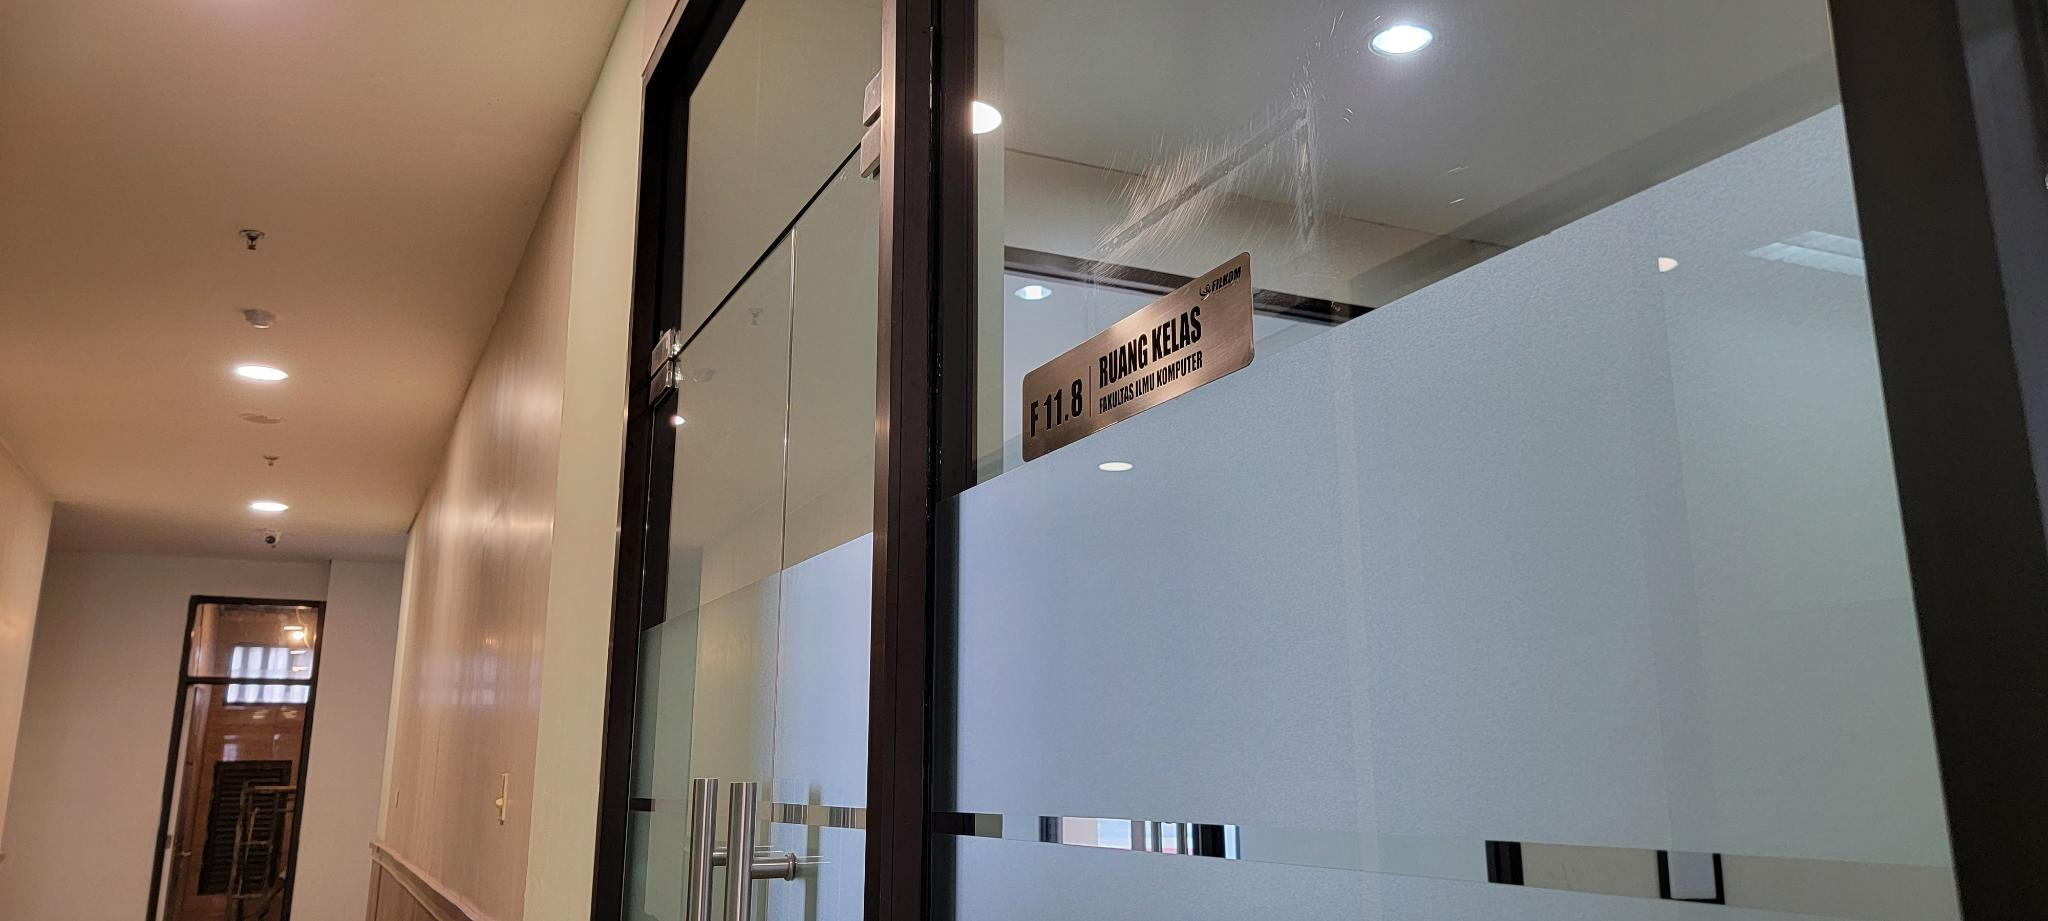plate: (1020, 248, 1255, 462)
